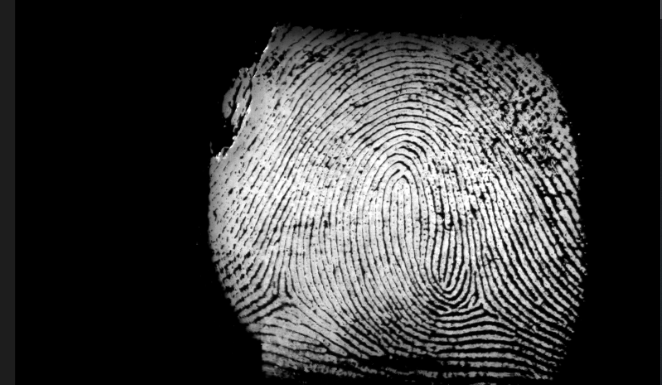nucelo: (385, 172, 418, 244)
verticilo: (456, 286, 505, 322), (267, 270, 305, 311)
